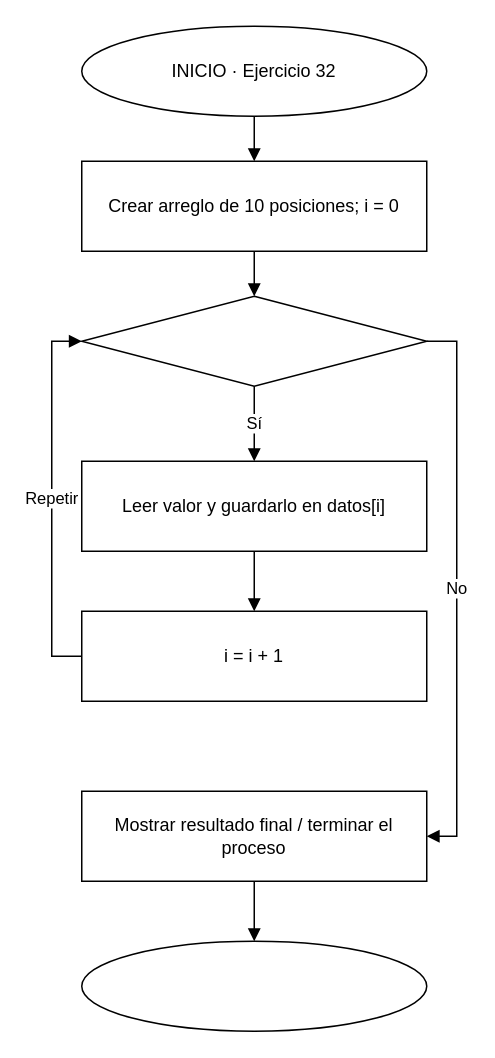
The diagram is 495 pixels wide and 1058 high, and some of its shapes have lost their labels. The centre of each missing label's shape, as x and y in pixels:
"FIN" belongs at (x=253, y=985).
"¿i < 10?" belongs at (x=253, y=340).
